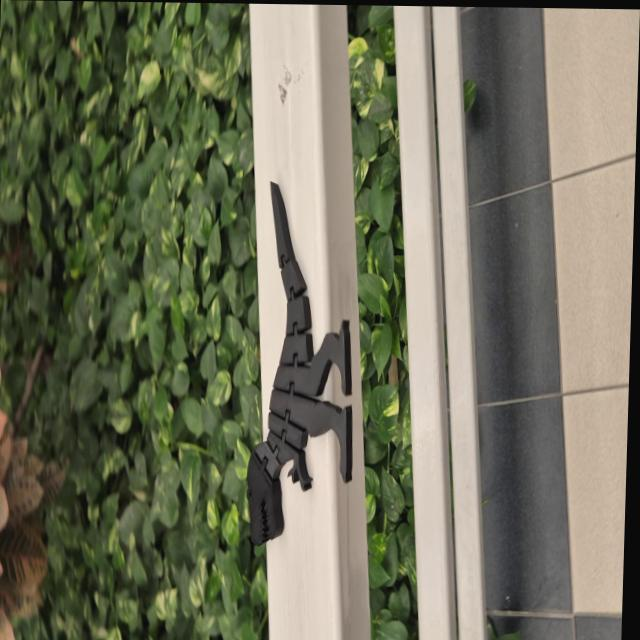dino: (243, 180, 361, 549)
